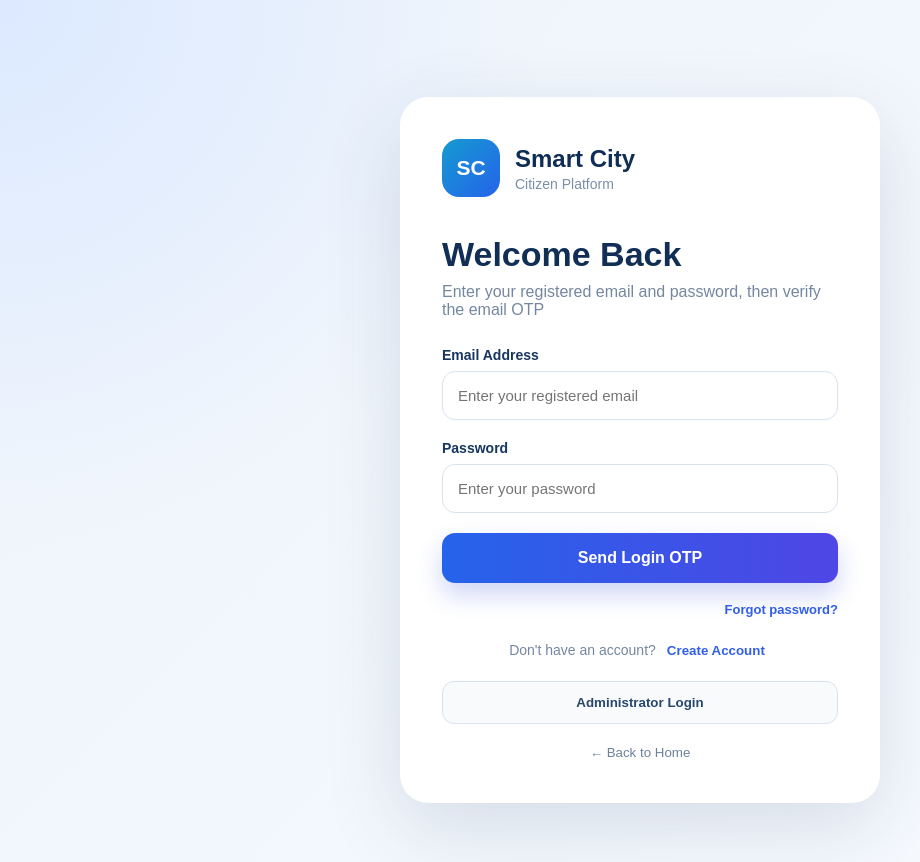
it: valid credentials preserve the OTP endpoint and incomplete OTP is blocked
Type " Citizen@Example.com " into the field labelled "Email Address".
click(640, 396); type(" Citizen@Example.com ")  # box [442,371,838,420]
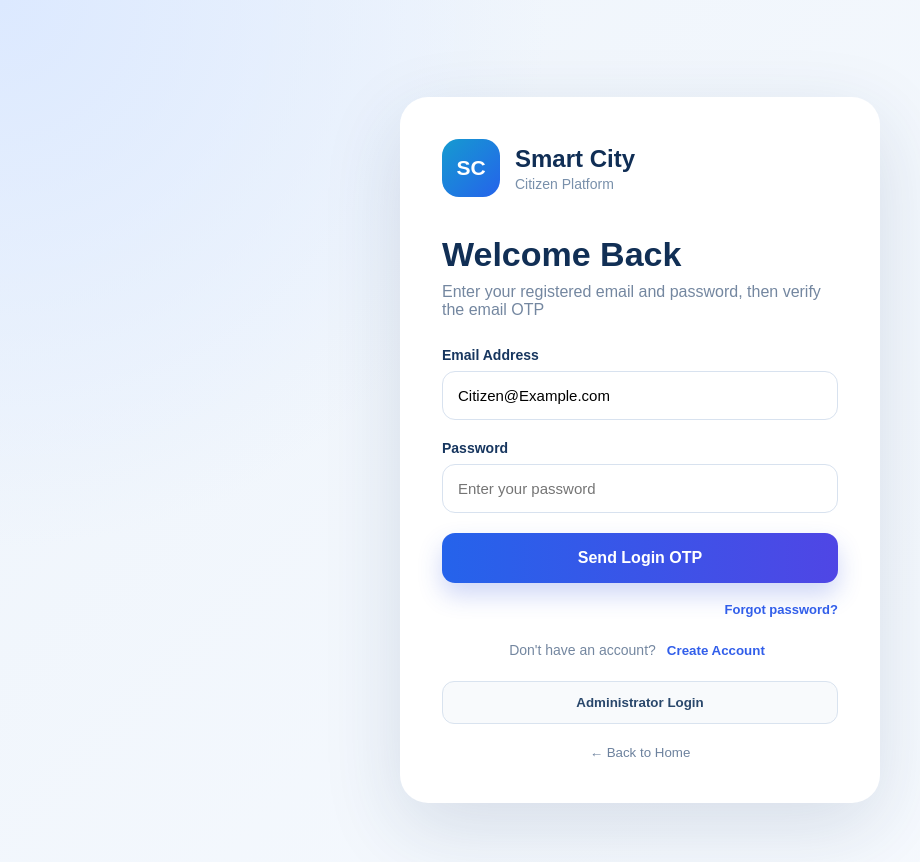
Type "existing-password" into the password field labelled "Password".
click(640, 488); type("existing-password")  # box [442,464,838,513]
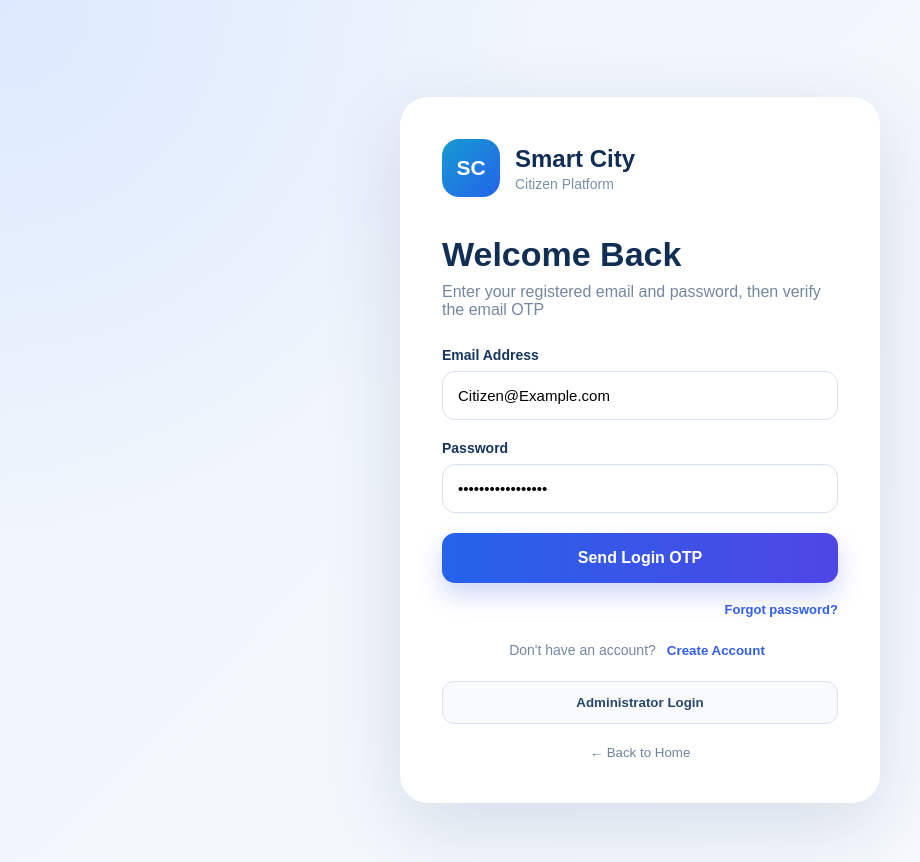
Click the button "Send Login OTP".
click(640, 558)  # box [442,533,838,583]
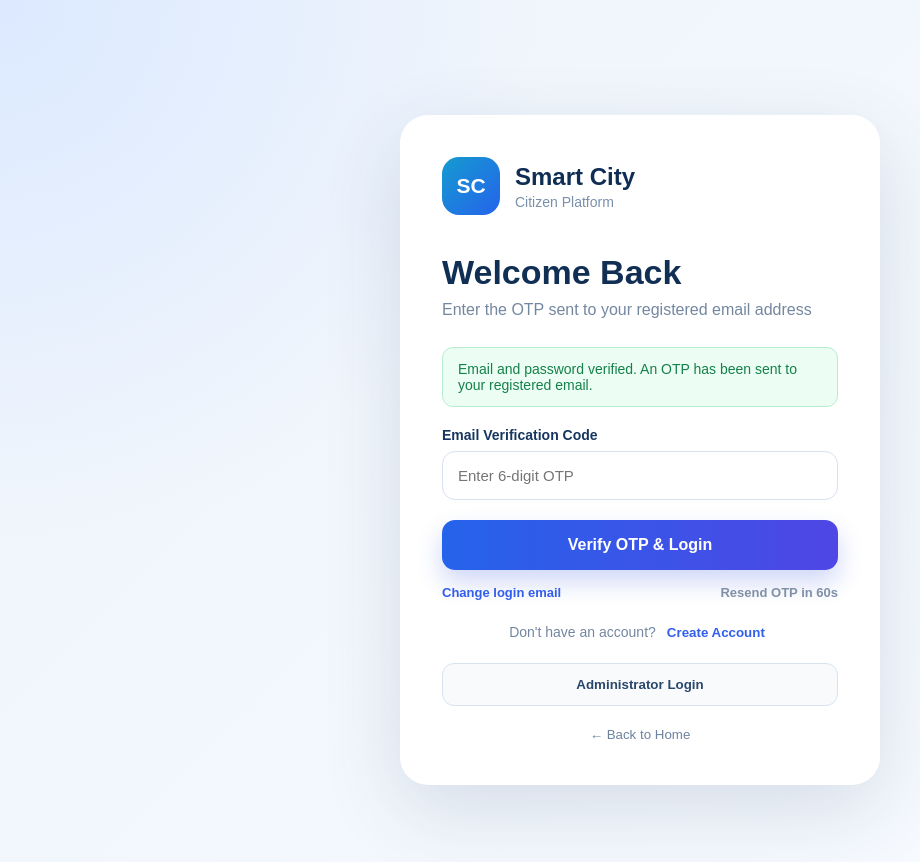
Type "123" into the field labelled "Email Verification Code".
click(640, 476); type("123")  # box [442,451,838,500]
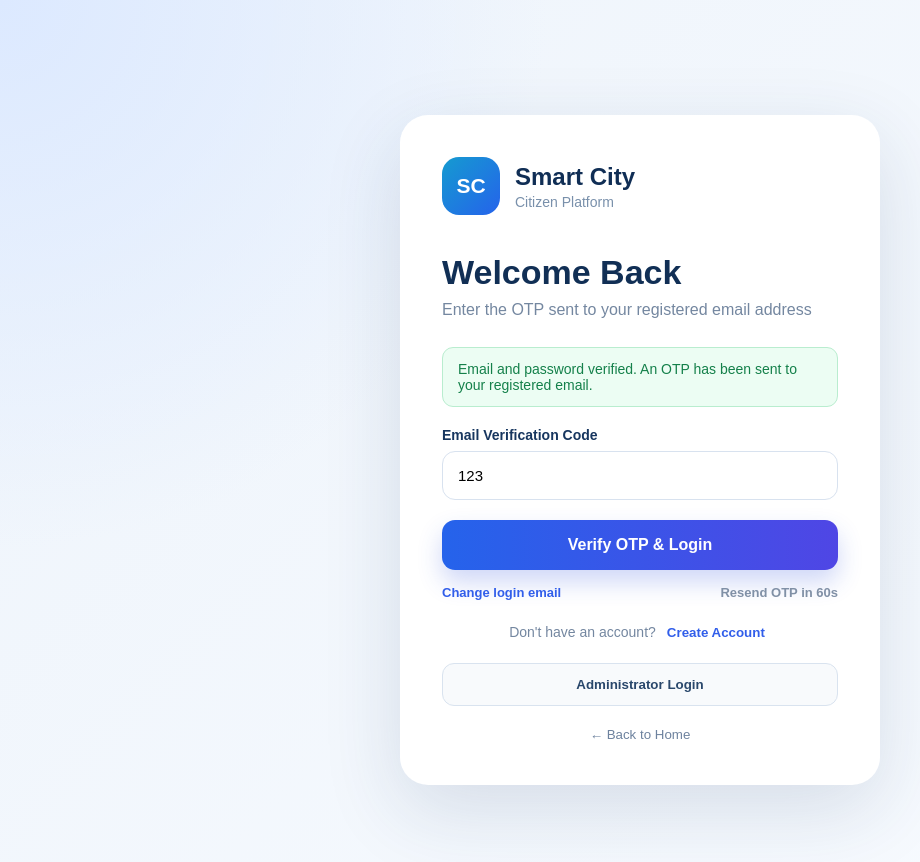
Click the button "Verify OTP & Login".
click(640, 545)  # box [442,520,838,570]
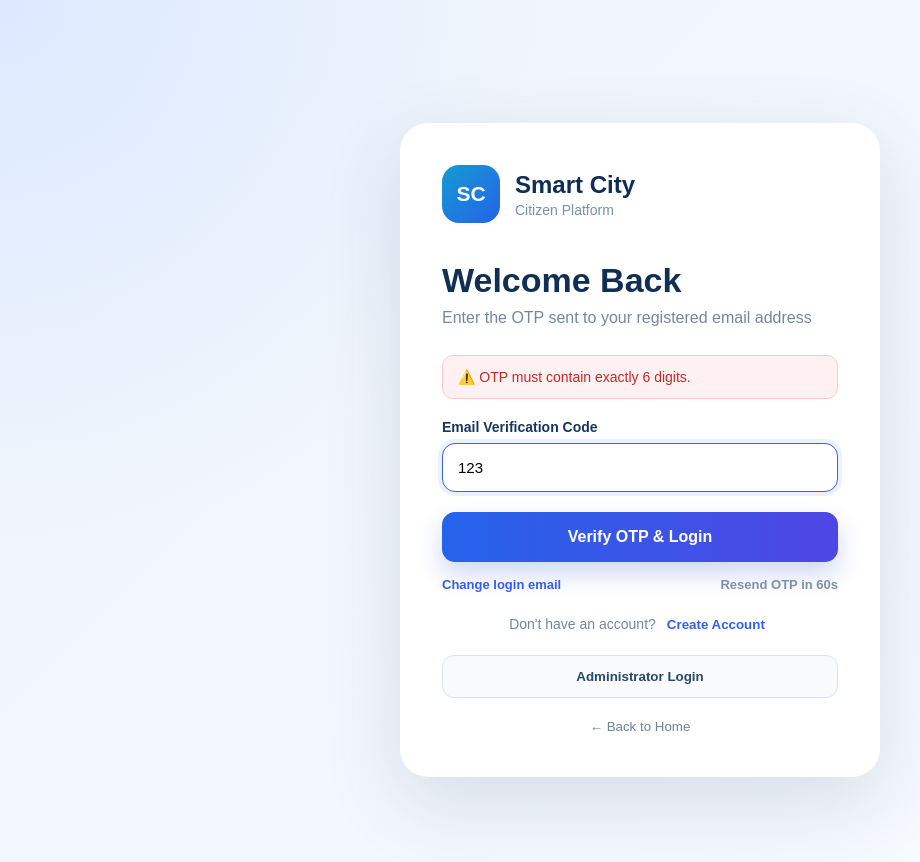
Now the message shows "exactly 6 digits", box [479,369,691,385]
